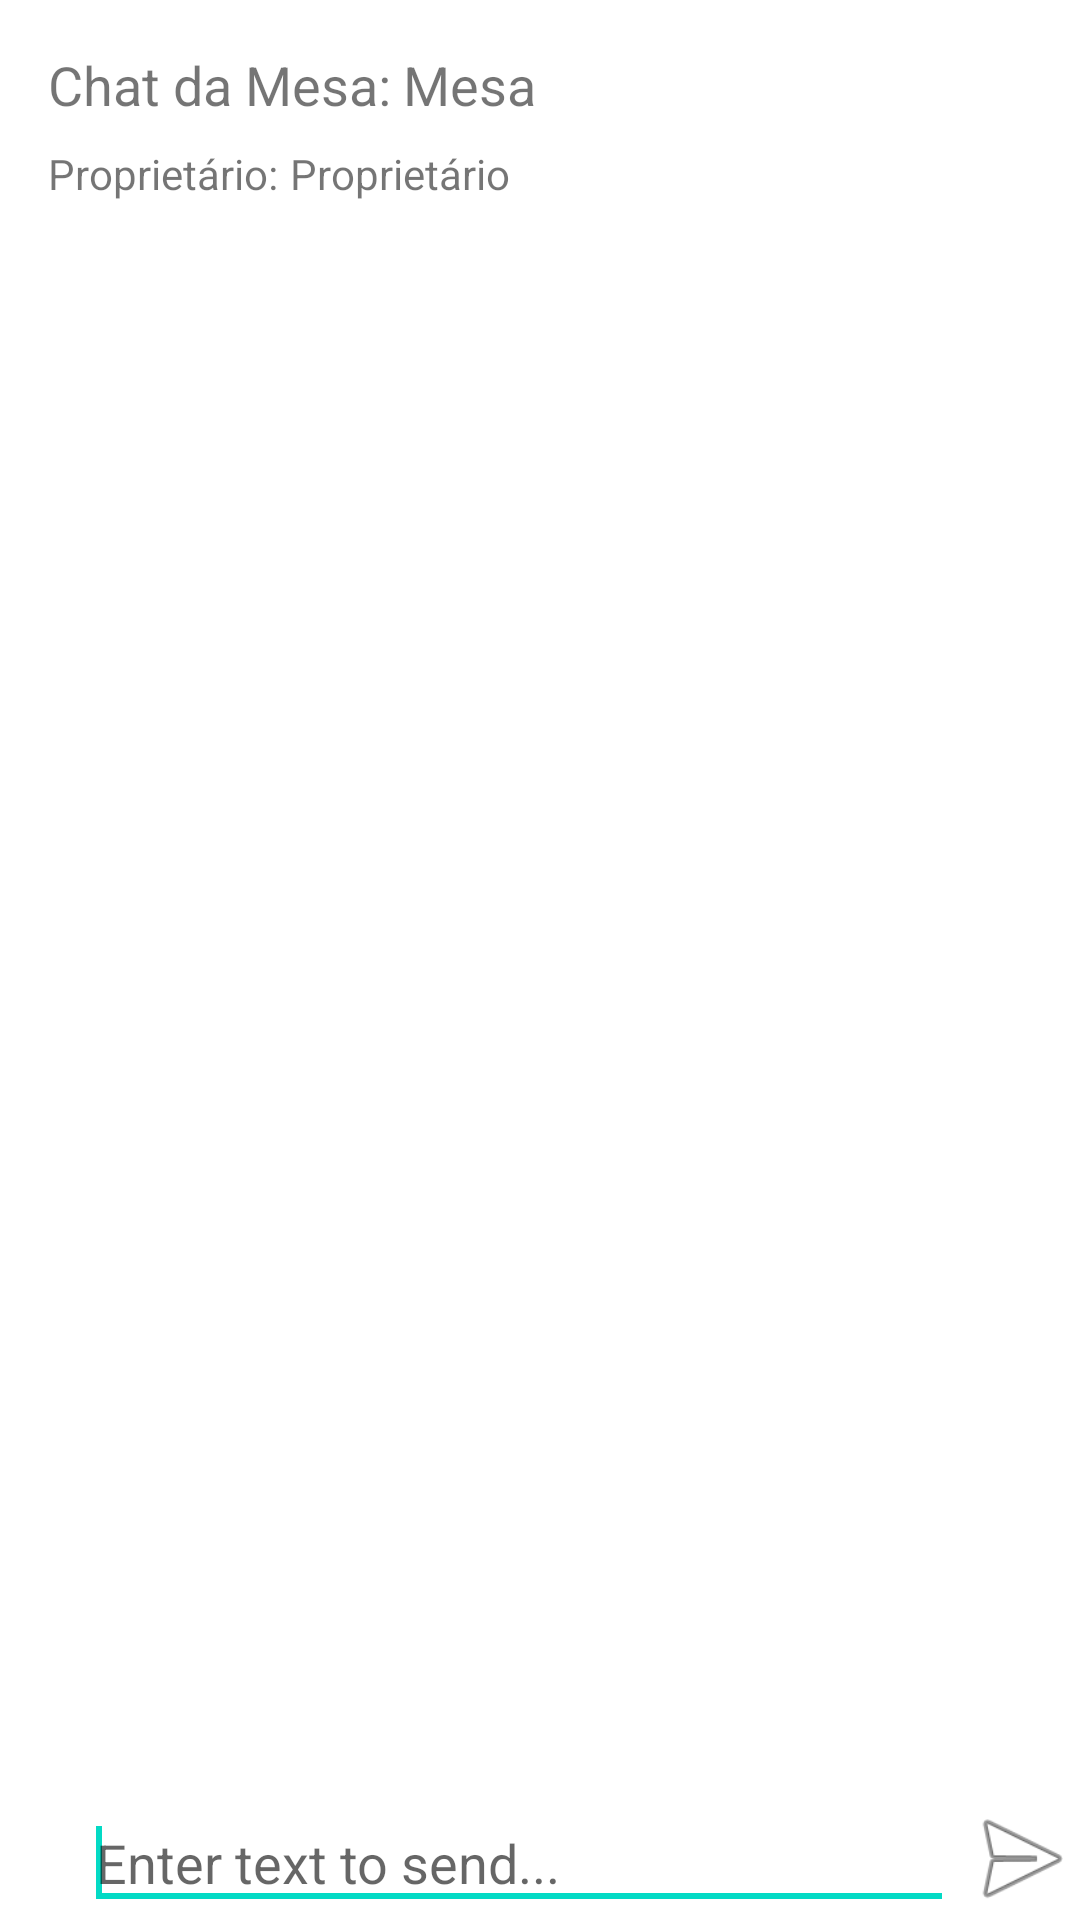

Where to tap for icons on this 1080w x 1920h app screen, as (x=x, y=y):
Botão para enviar mensagem: (x=1022, y=1858)
